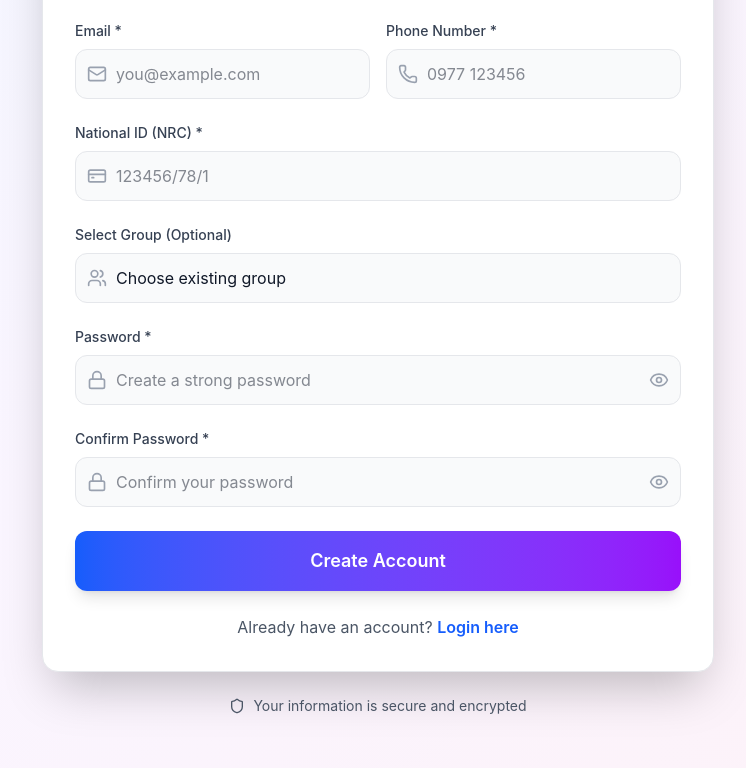
Test: Signup page › shows validation errors for empty required fields
(page scrolled)
Click the button "Create Account".
click(378, 561)  # box [75,531,681,591]
(page scrolled)
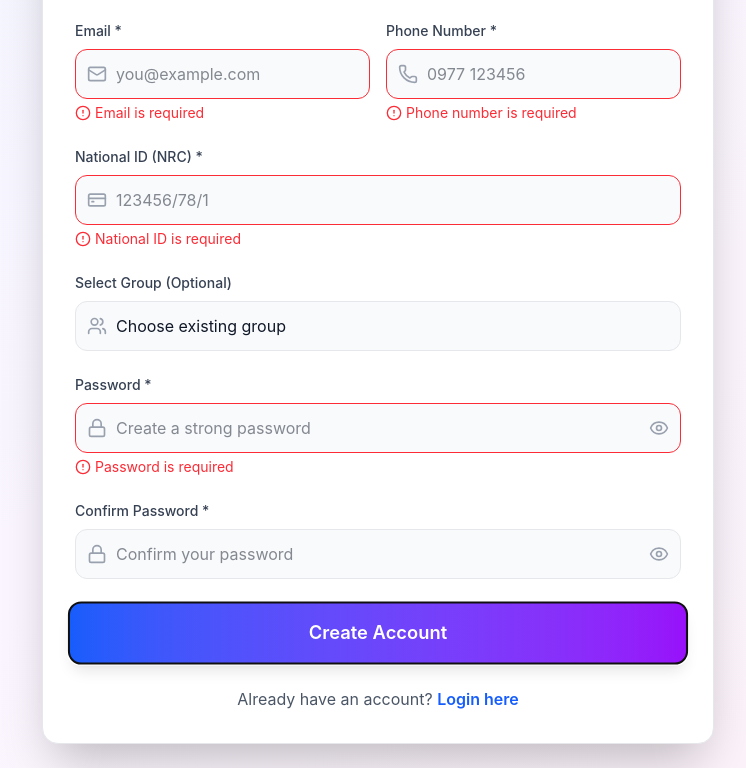
Expected: the text "Email is required" is shown, [95,103,204,123]
Expected: the text "Phone number is required" is shown, [406,103,577,123]
Expected: the text "National ID is required" is shown, [95,229,241,249]
